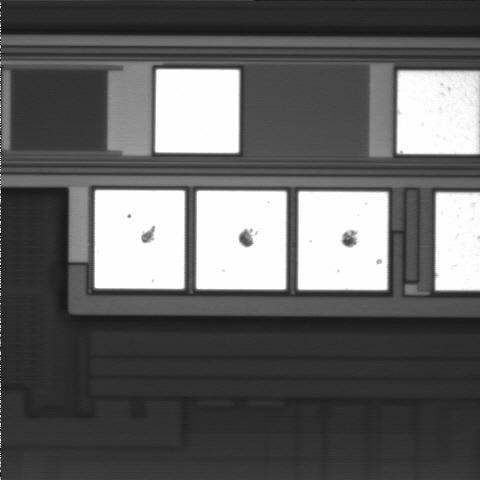pad: (95, 190, 185, 289), (196, 191, 286, 290), (298, 191, 388, 290), (155, 69, 239, 153)
